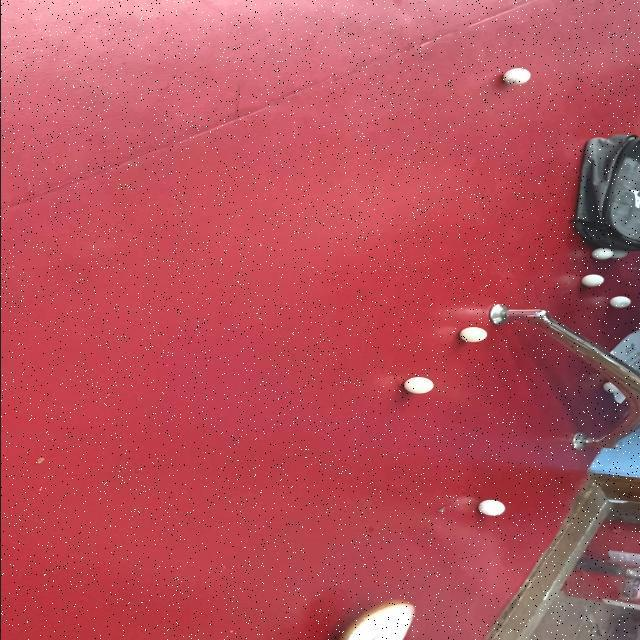ping-pong-ball: (402, 377, 436, 394), (500, 68, 532, 86), (476, 498, 506, 516), (458, 326, 488, 343), (588, 247, 616, 260), (580, 274, 604, 288), (608, 296, 632, 308)
